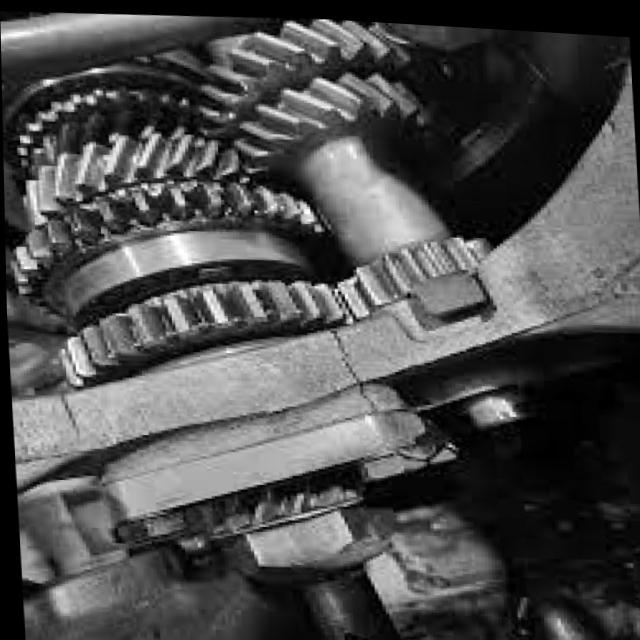No Fault: (60, 237, 349, 399), (11, 158, 304, 268), (6, 104, 257, 227), (232, 60, 430, 170), (1, 62, 202, 166), (344, 202, 487, 335), (157, 459, 351, 557), (203, 12, 425, 95)
